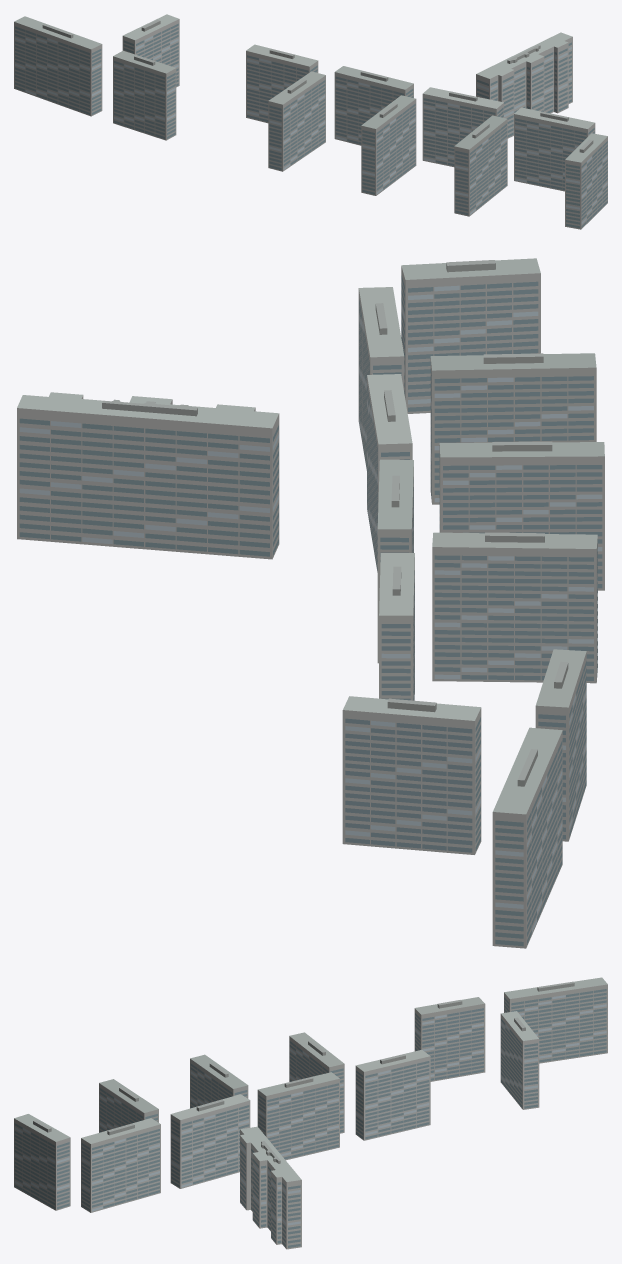
Rendered from apt-a13987305.glb.
The picture shows the model from 3 angles, top to bottom: view 1: azimuth 30°, elevation 25°; view 2: azimuth 150°, elevation 25°; view 3: azimuth 270°, elevation 25°; orthographic projection. The views are drawn at different scales.
Visible parts, largest first — view 1: apt-a13987305; view 2: apt-a13987305; view 3: apt-a13987305.
Boxes of the visible parts, x1=… form: apt-a13987305: x1=14, y1=14, x2=607, y2=229; apt-a13987305: x1=17, y1=258, x2=604, y2=948; apt-a13987305: x1=14, y1=977, x2=607, y2=1249.
Bounding box in the file's own units: 296 × 49 × 366.
